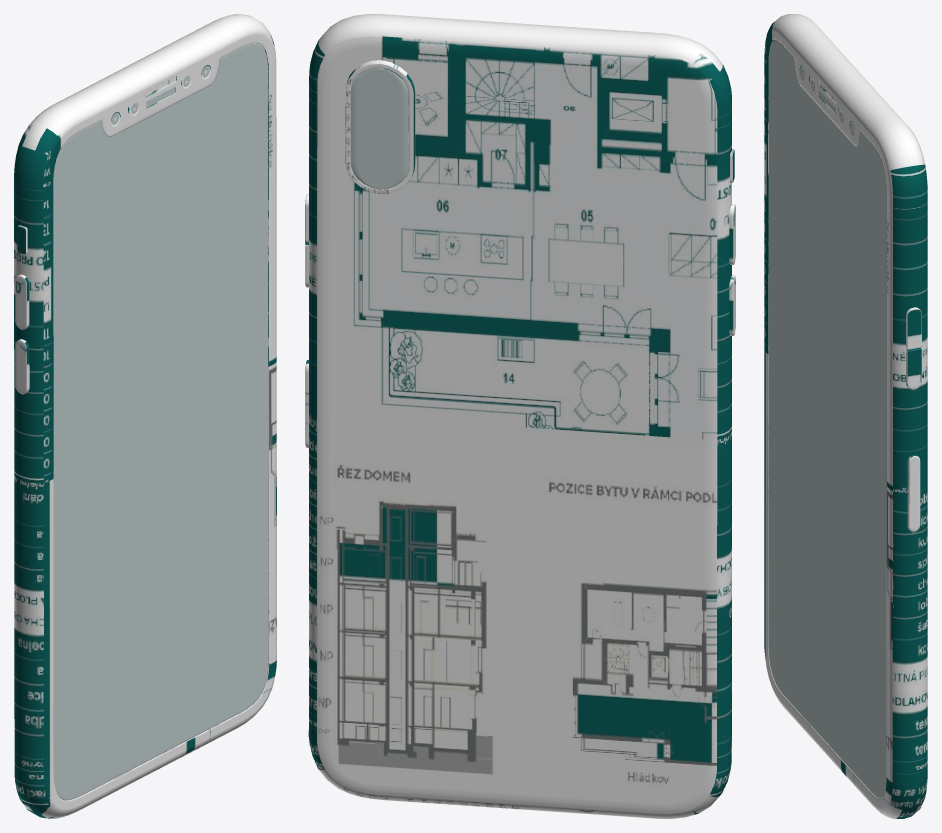
Rendered from phoneWithG.glb.
The picture shows the model from 3 angles, left to right: view 1: azimuth 30°, elevation 25°; view 2: azimuth 150°, elevation 25°; view 3: azimuth 270°, elevation 25°; orthographic projection. The views are drawn at different scales.
Parts seen in each view (by area): view 1: iphone 10.001; view 2: iphone 10.001; view 3: iphone 10.001.
Boxes of the visible parts, x1,y1,x2,y2 form: iphone 10.001: [14, 14, 276, 818]; iphone 10.001: [305, 14, 735, 818]; iphone 10.001: [764, 14, 927, 818].
Size of the model in its own units: 0.6243 by 1.31 by 0.2806.
Materials: 2 (2 with a texture image).
